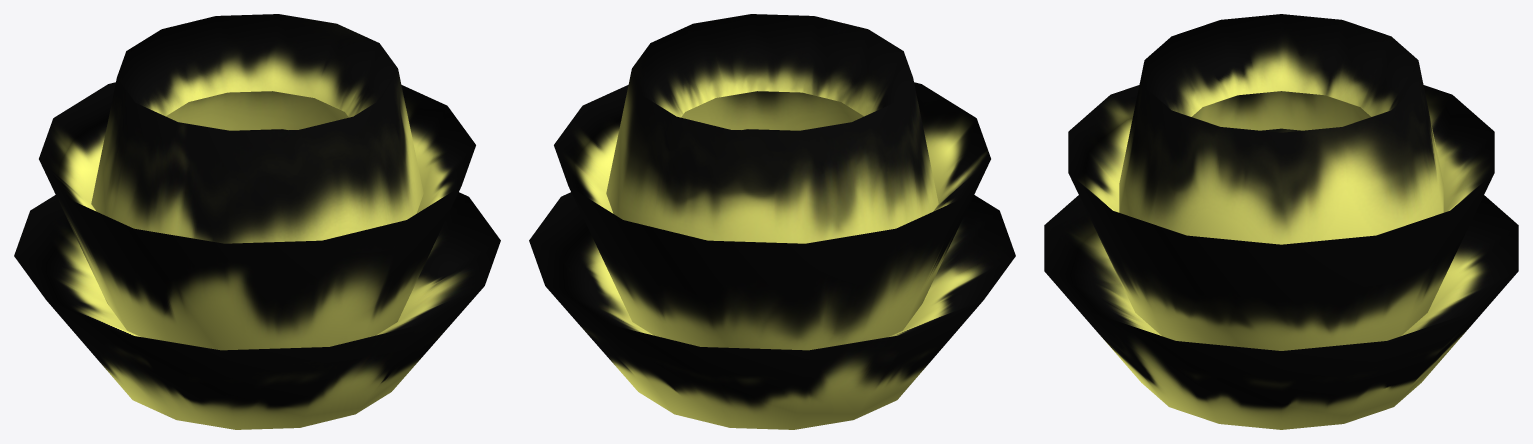
File: PowerUp_StalloneFuzFX.fbx
3 renders of one model, left to right at view 1: azimuth 30°, elevation 25°; view 2: azimuth 150°, elevation 25°; view 3: azimuth 270°, elevation 25°, orthographic.
Visible parts, largest first — view 1: polySurface4; view 2: polySurface4; view 3: polySurface4.
Boxes of the visible parts, bbox=[...] form: polySurface4: bbox=[14, 14, 500, 429]; polySurface4: bbox=[529, 14, 1015, 429]; polySurface4: bbox=[1044, 14, 1518, 429].
Bounding box in the file's own units: 7.26 × 4.87 × 7.07.
